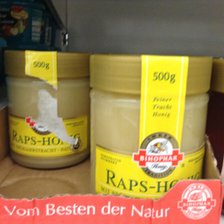honey: (91, 52, 215, 203), (2, 50, 90, 168)
